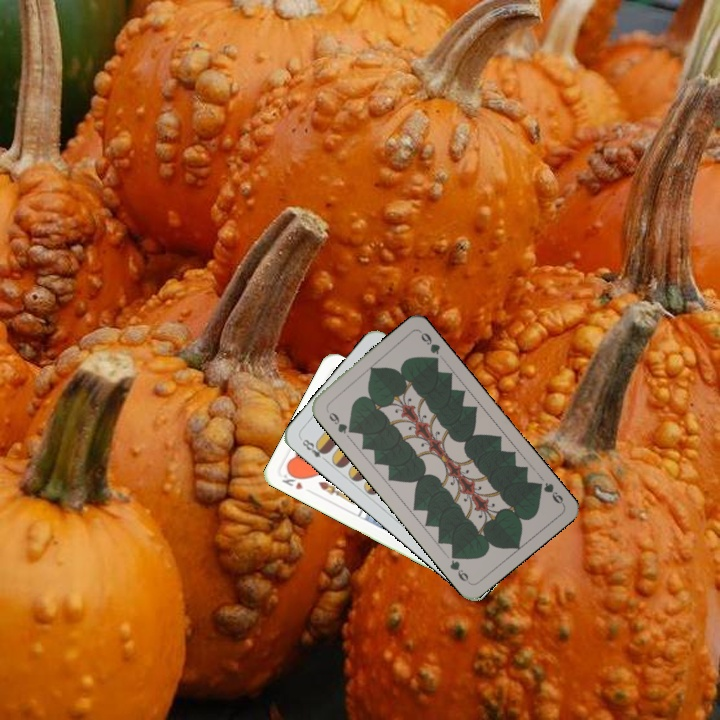E8: (298, 435, 330, 465)
G9: (322, 405, 356, 436), (531, 478, 566, 507)
HK: (278, 467, 306, 492)
